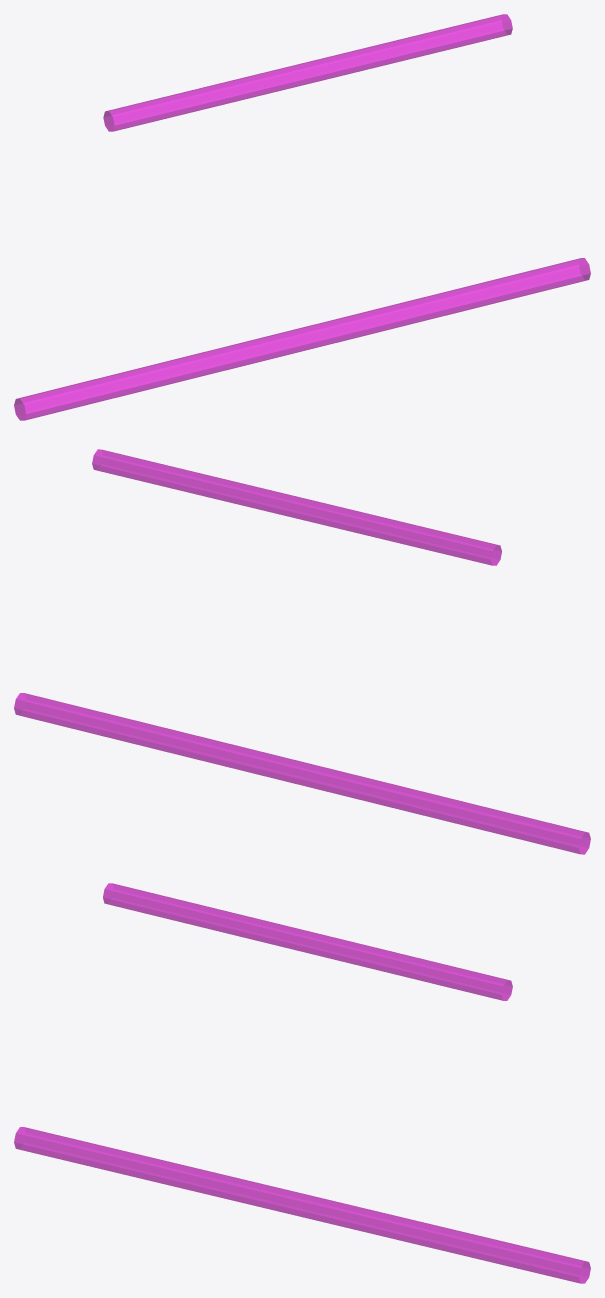
File: SM_Veh_Ship_L_Mast_Front_01_Boom_01_Collision.fbx
The picture shows the model from 3 angles, top to bottom: view 1: azimuth 30°, elevation 25°; view 2: azimuth 150°, elevation 25°; view 3: azimuth 330°, elevation 25°; orthographic projection.
Visible parts, largest first — view 1: SM_Veh_Ship_L_Mast_Front_01_Boom_01_Collision; view 2: SM_Veh_Ship_L_Mast_Front_01_Boom_01_Collision; view 3: SM_Veh_Ship_L_Mast_Front_01_Boom_01_Collision.
Part boxes in pixels (box(x1,y1,x2,y2)): SM_Veh_Ship_L_Mast_Front_01_Boom_01_Collision: box(14, 14, 590, 420); SM_Veh_Ship_L_Mast_Front_01_Boom_01_Collision: box(14, 449, 590, 854); SM_Veh_Ship_L_Mast_Front_01_Boom_01_Collision: box(14, 883, 590, 1283).
Size of the model in its own units: 1698 by 826 by 65.7.
